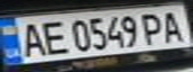0: (66, 16, 90, 52)
4: (103, 14, 127, 50)
5: (87, 15, 109, 51)
9: (118, 12, 142, 47)
A: (15, 19, 48, 58), (157, 8, 190, 43)
E: (36, 18, 69, 56)
P: (139, 10, 169, 46)
